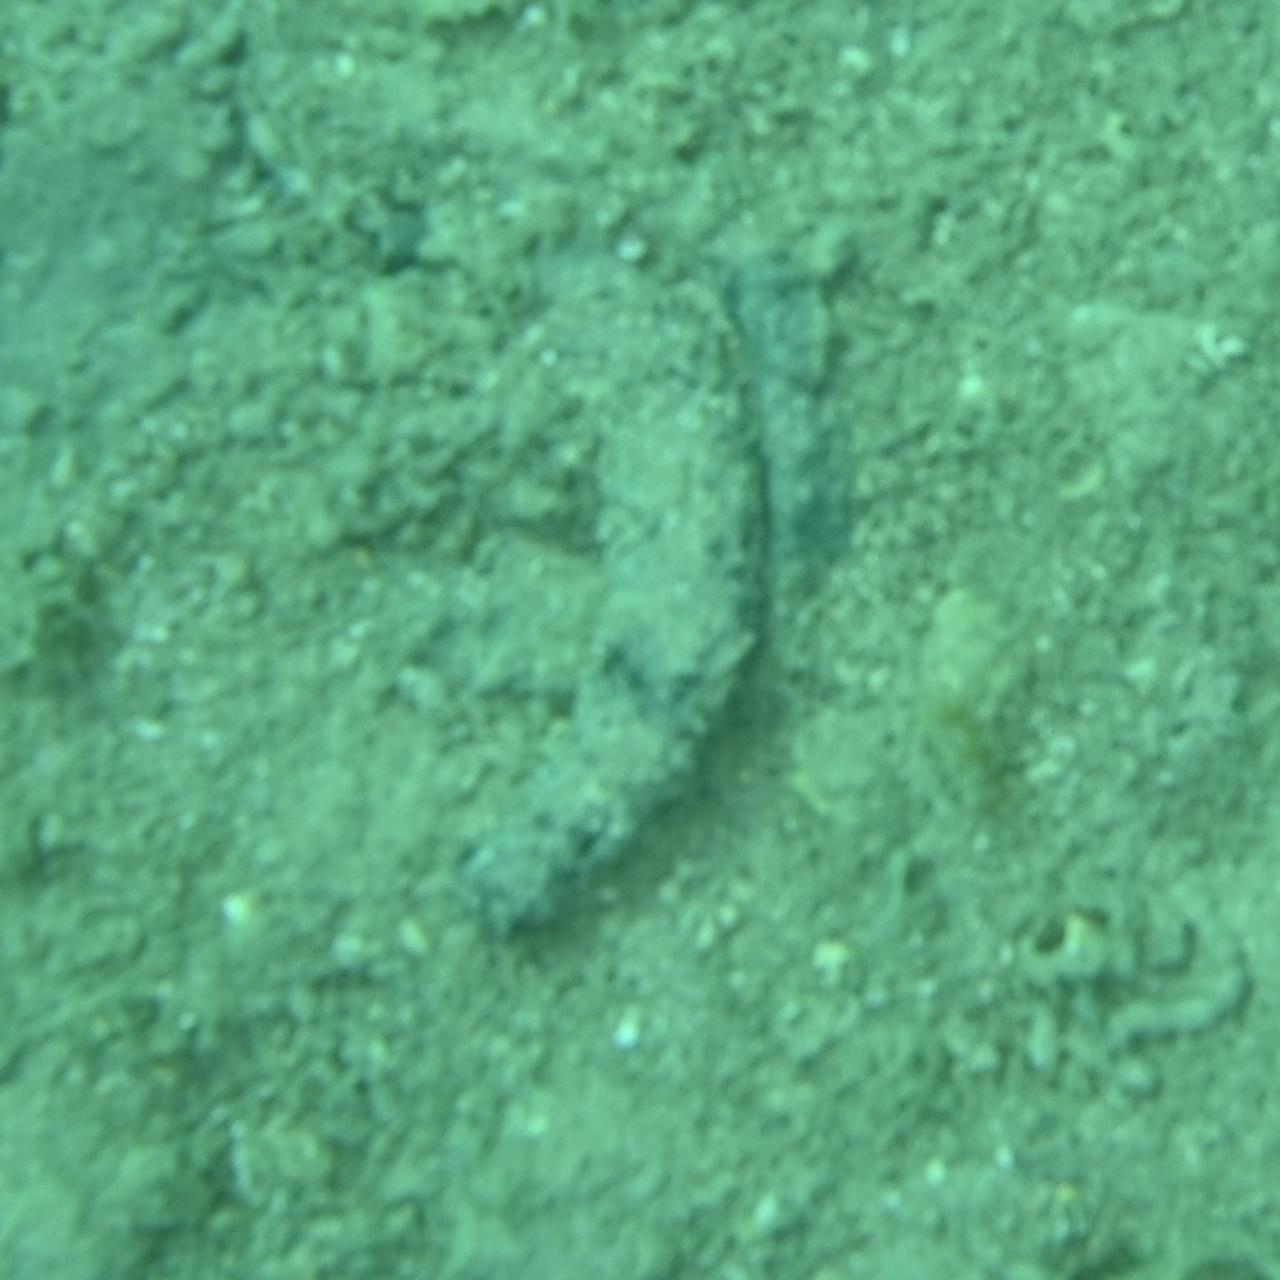Holothuria tubulosa: (501, 306, 779, 974)
